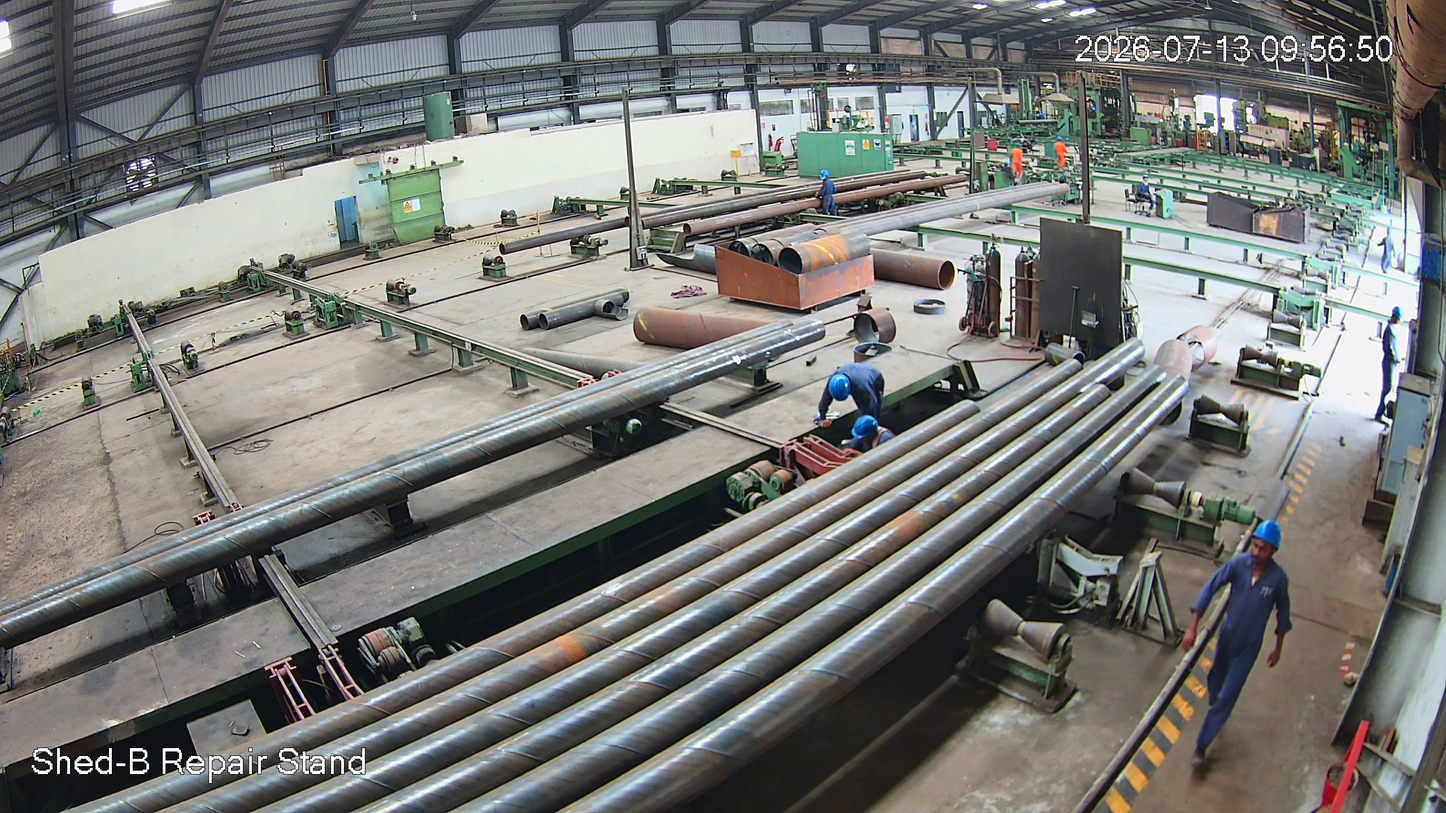Helmet: (1248, 512, 1294, 590), (848, 415, 885, 436), (829, 373, 853, 404), (1390, 305, 1403, 325)
Person: (1171, 515, 1310, 790), (814, 362, 897, 427), (1372, 306, 1407, 427), (836, 415, 902, 461)
